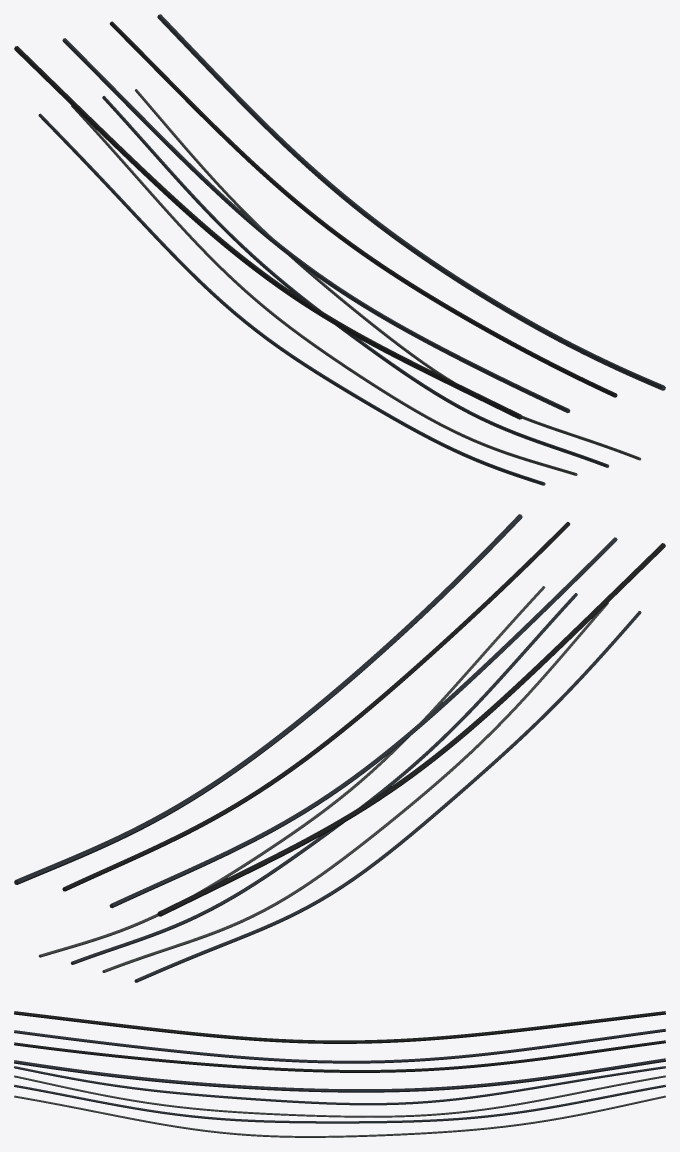
File: PH_WireSpan_8Cables.obj
The picture shows the model from 3 angles, top to bottom: view 1: azimuth 30°, elevation 25°; view 2: azimuth 150°, elevation 25°; view 3: azimuth 270°, elevation 25°; orthographic projection. The views are drawn at different scales.
Visible parts, largest first — view 1: PH_WireSpan_8Cables_Merged; view 2: PH_WireSpan_8Cables_Merged; view 3: PH_WireSpan_8Cables_Merged.
Boxes of the visible parts, x1,y1,x2,y2 form: PH_WireSpan_8Cables_Merged: (14,14,665,485); PH_WireSpan_8Cables_Merged: (14,514,665,982); PH_WireSpan_8Cables_Merged: (14,1011,665,1137).
Bounding box in the file's own units: 1.69 × 1.51 × 10.01.
Materials: 1 (1 with a texture image).
